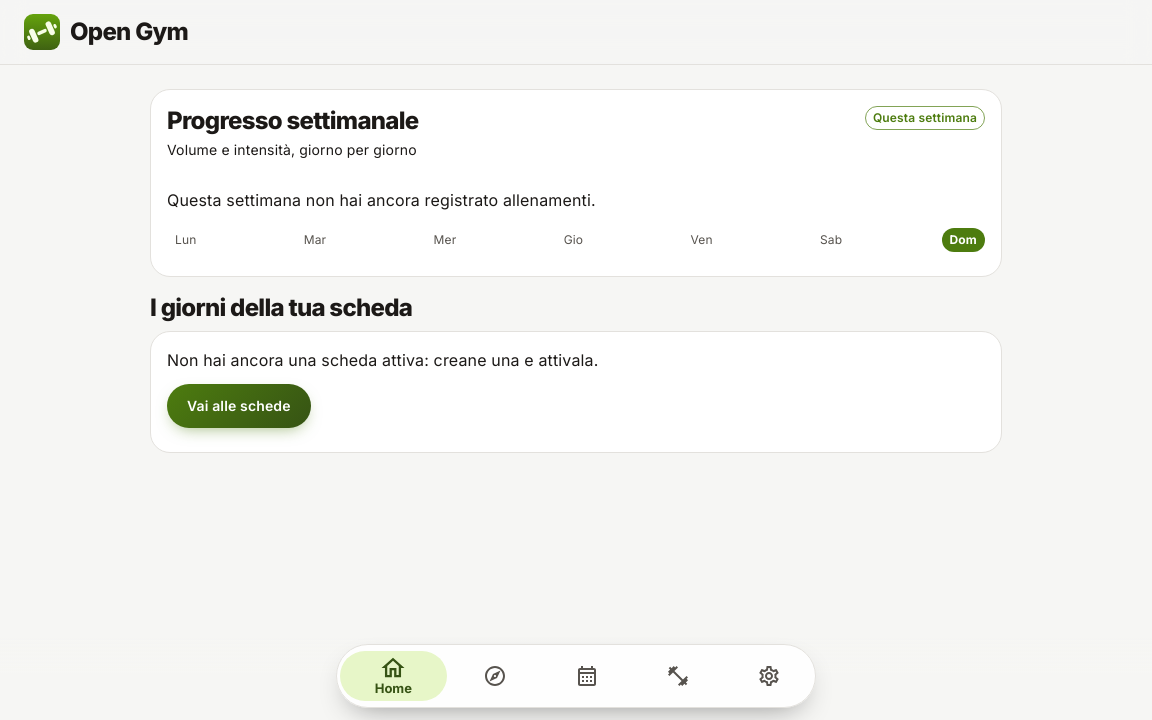
scelta della lingua (issue #63) › all'avvio l'app è in italiano, senza chiedere niente al browser
Click the button named "Impostazioni" at point(769, 676), box [727,651,812,701]
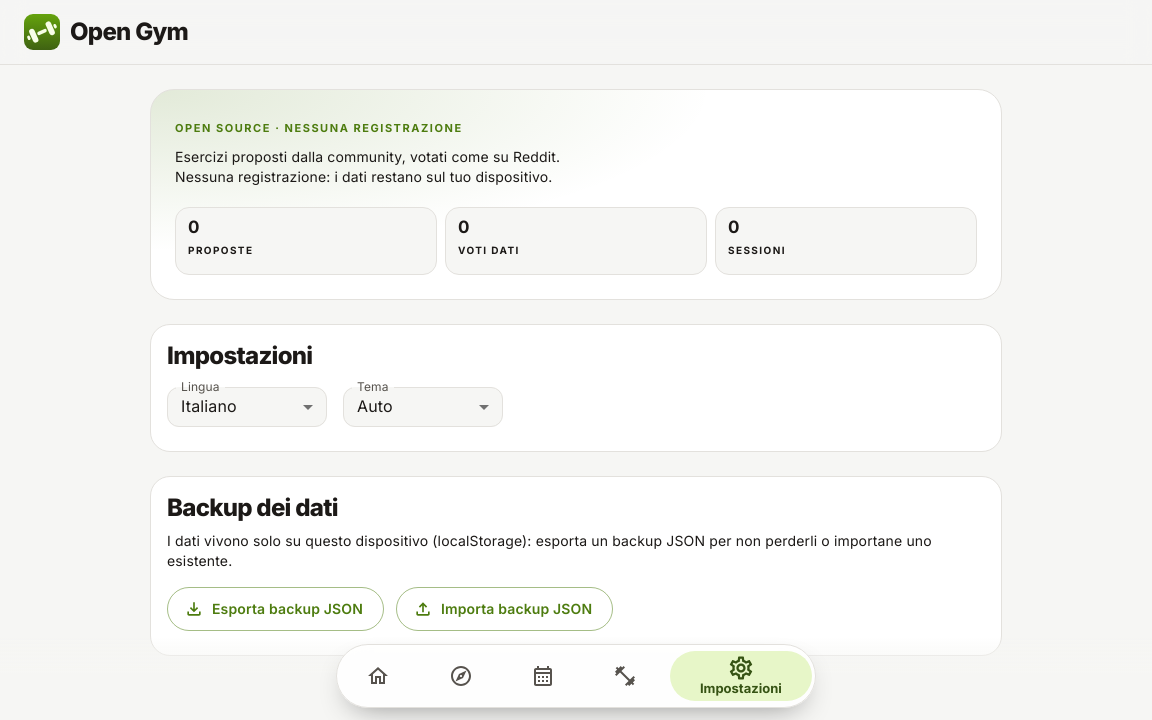
Now the dropdown named "Lingua" reads "Italiano", box [181,396,237,416]
